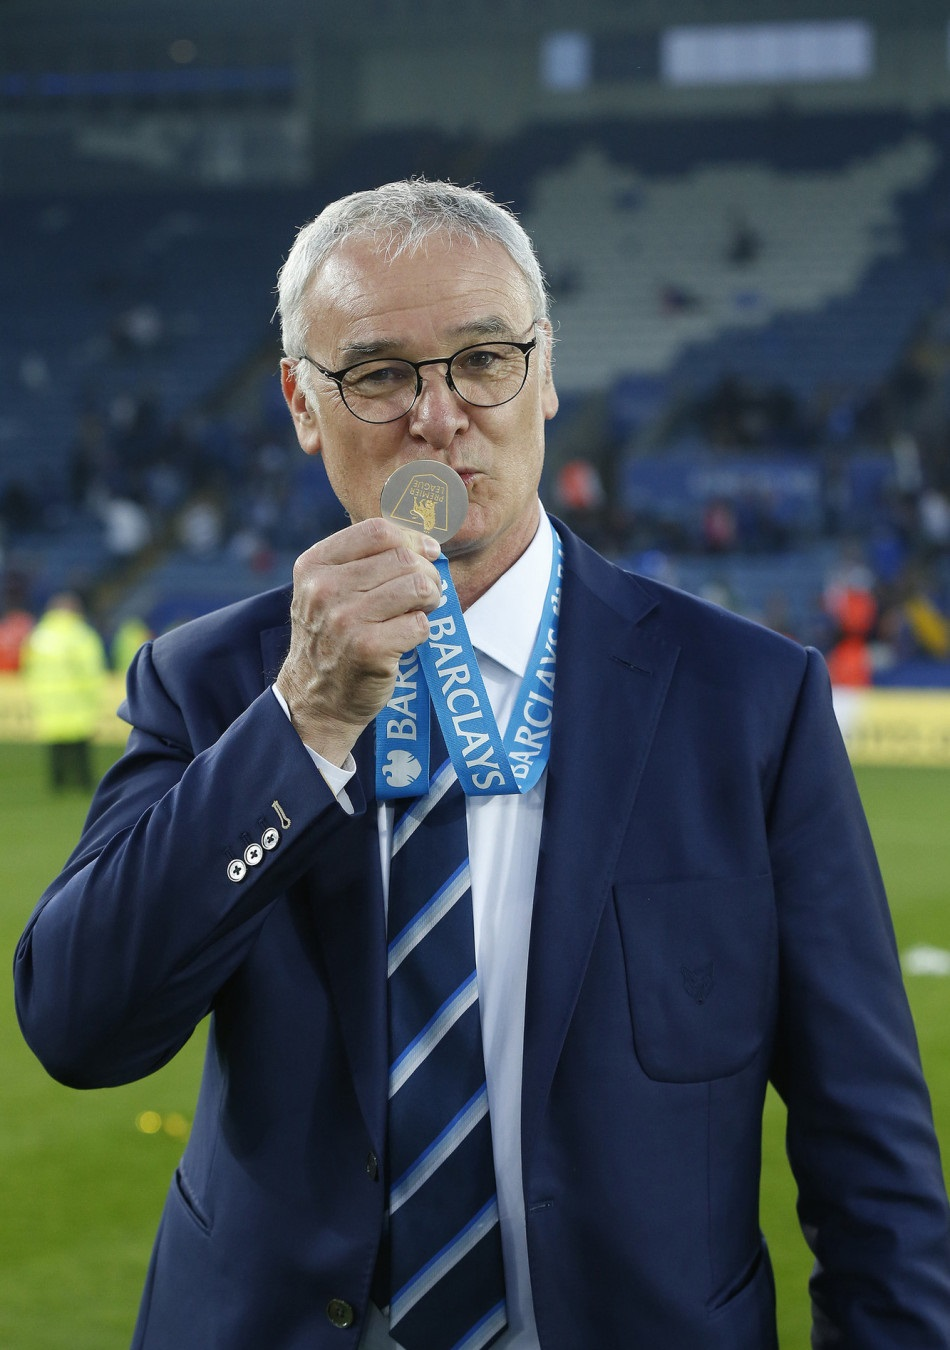face: (315, 264, 538, 558)
